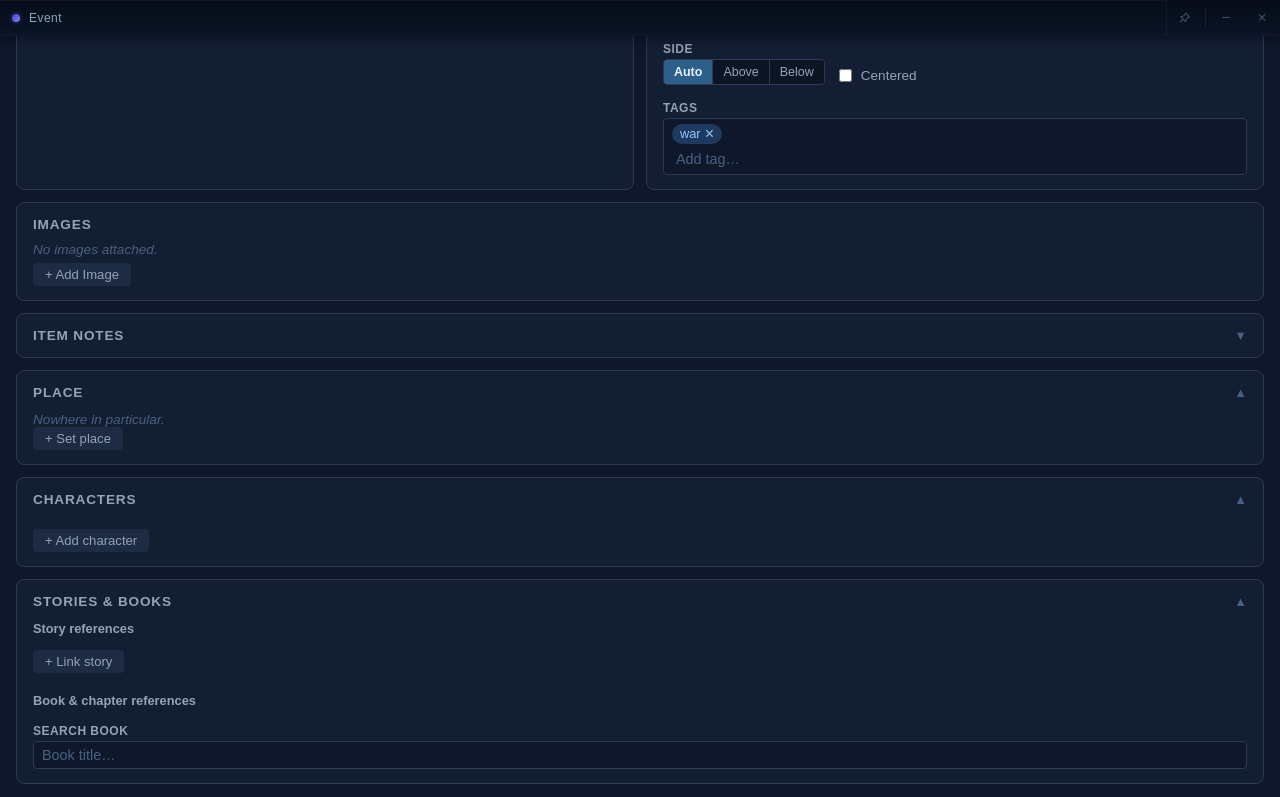
it: EditItem page › a character added to an item starts at the timeline default and the switch saves
(page scrolled)
The Characters section starts expanded: picker → pick Ada → Add
Click the button "+ Add character" at [91, 540], box 33,528 -> 149,552
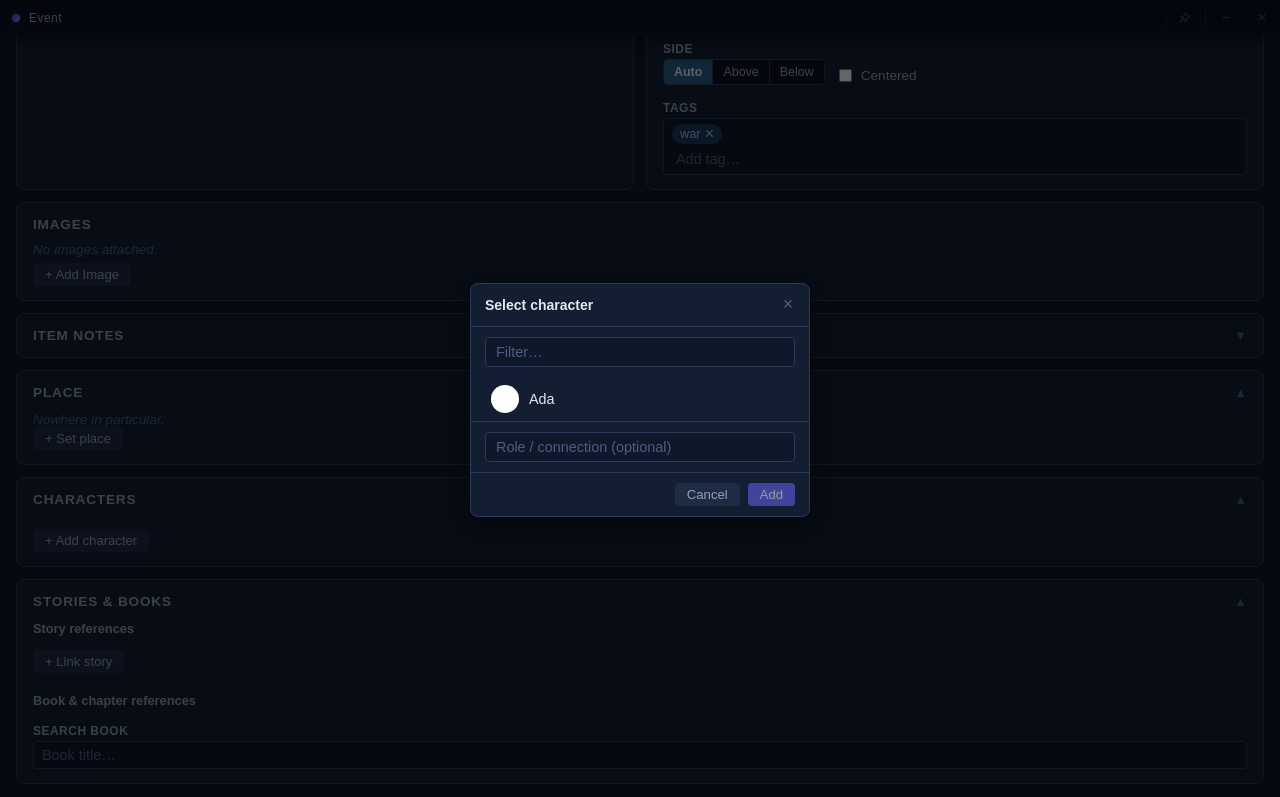
Click the element showing "A Ada" at [505, 399], box 491,385 -> 555,413
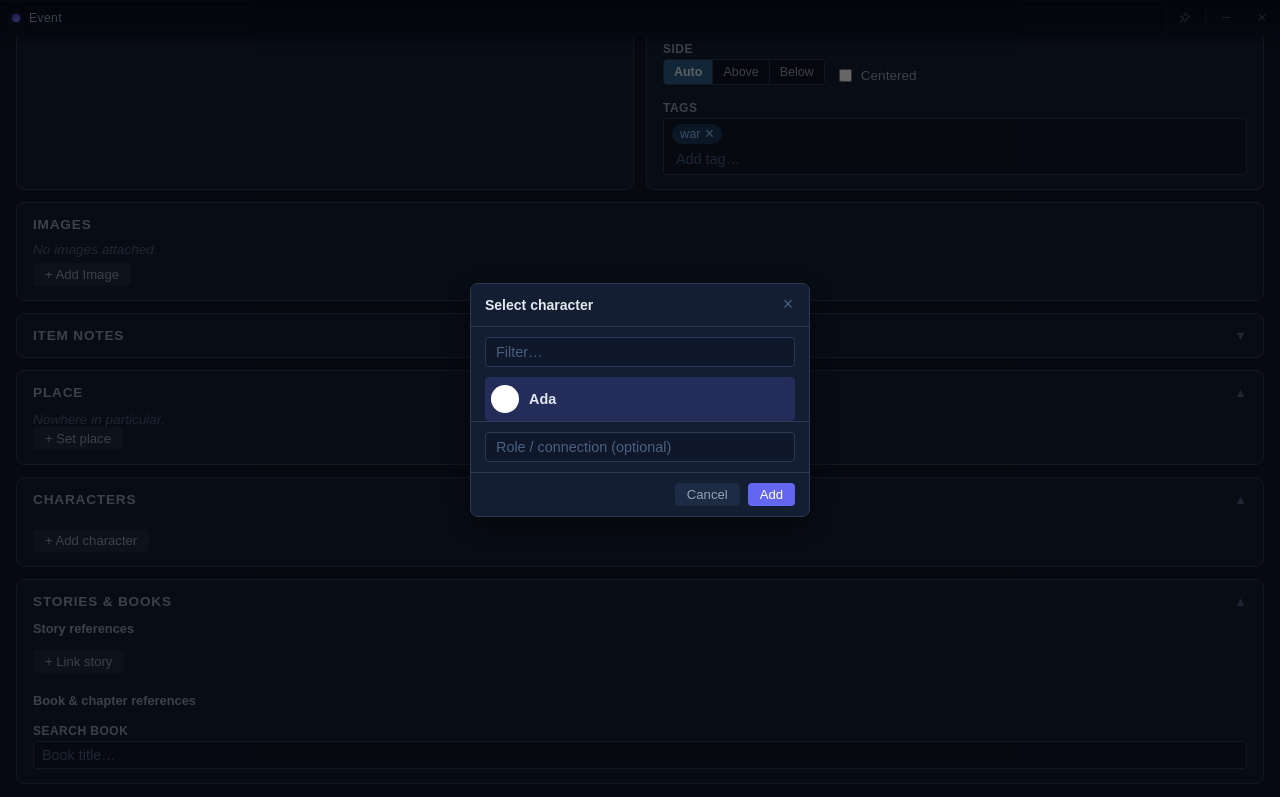
Click the button "Add" at [771, 494], box 748,483 -> 795,506
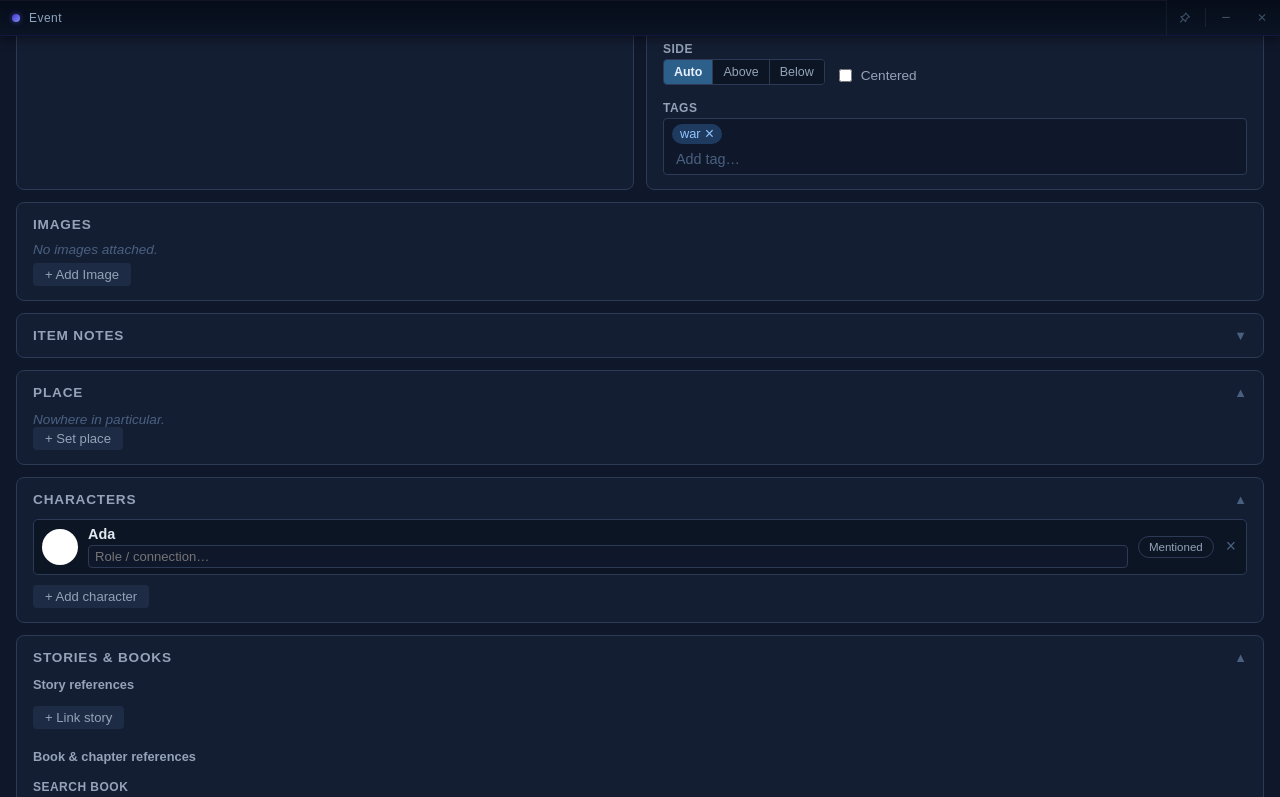
Now the button with class "char-presence" reads "Mentioned"
Click the button with class "char-presence" at [1176, 546], box 1138,536 -> 1214,558
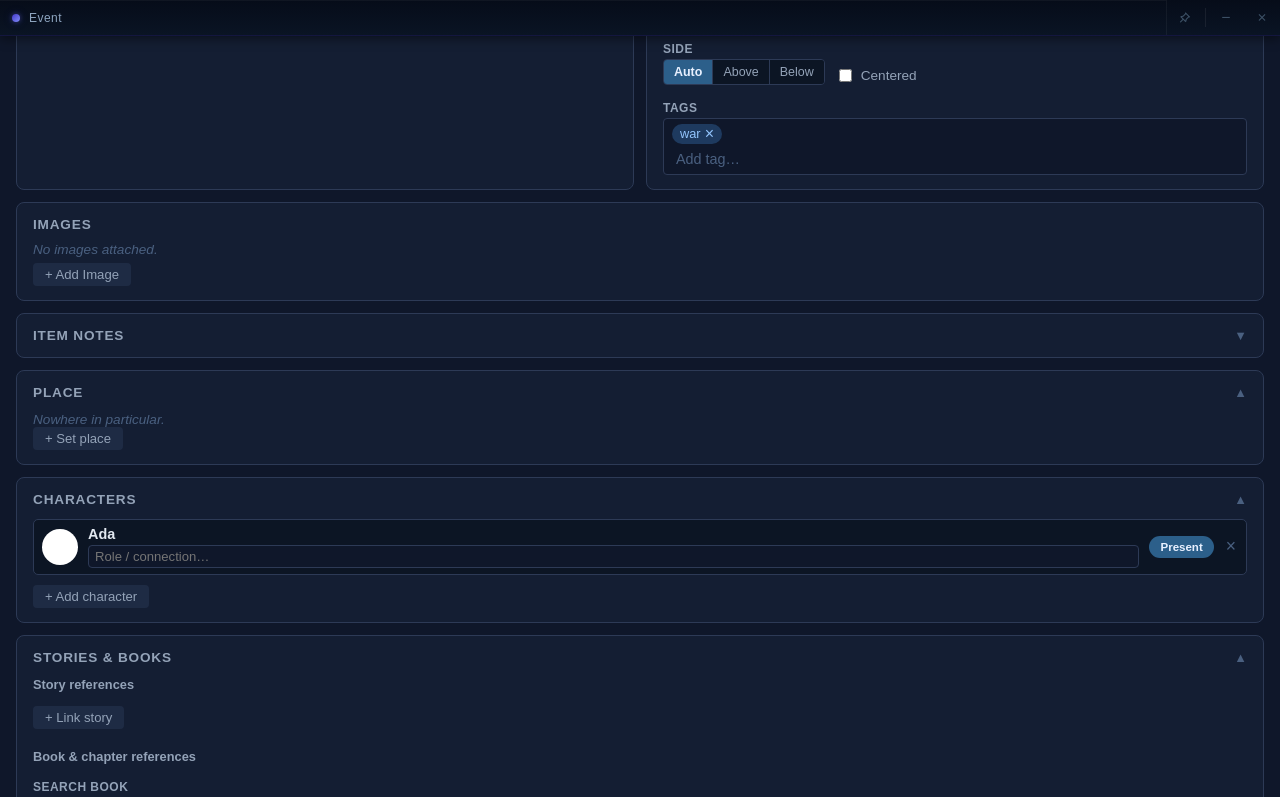
Now the button with class "char-presence" reads "Present", box 1150,536 -> 1214,558
